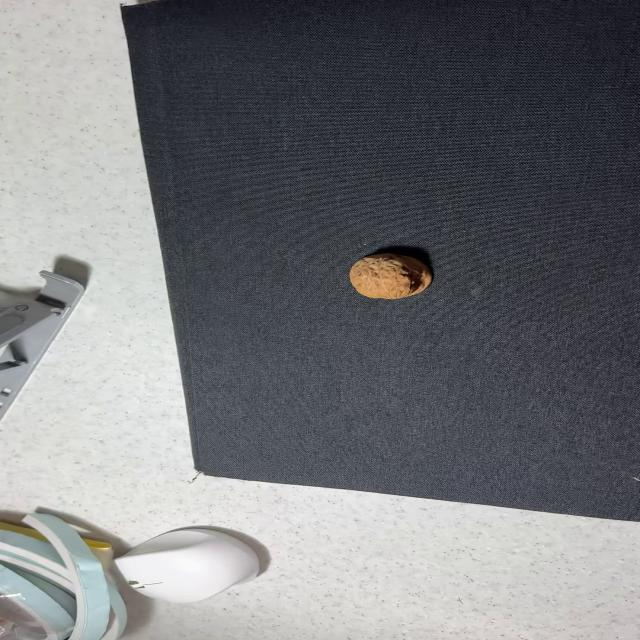nuts-bad0.5: (349, 253, 432, 300)
